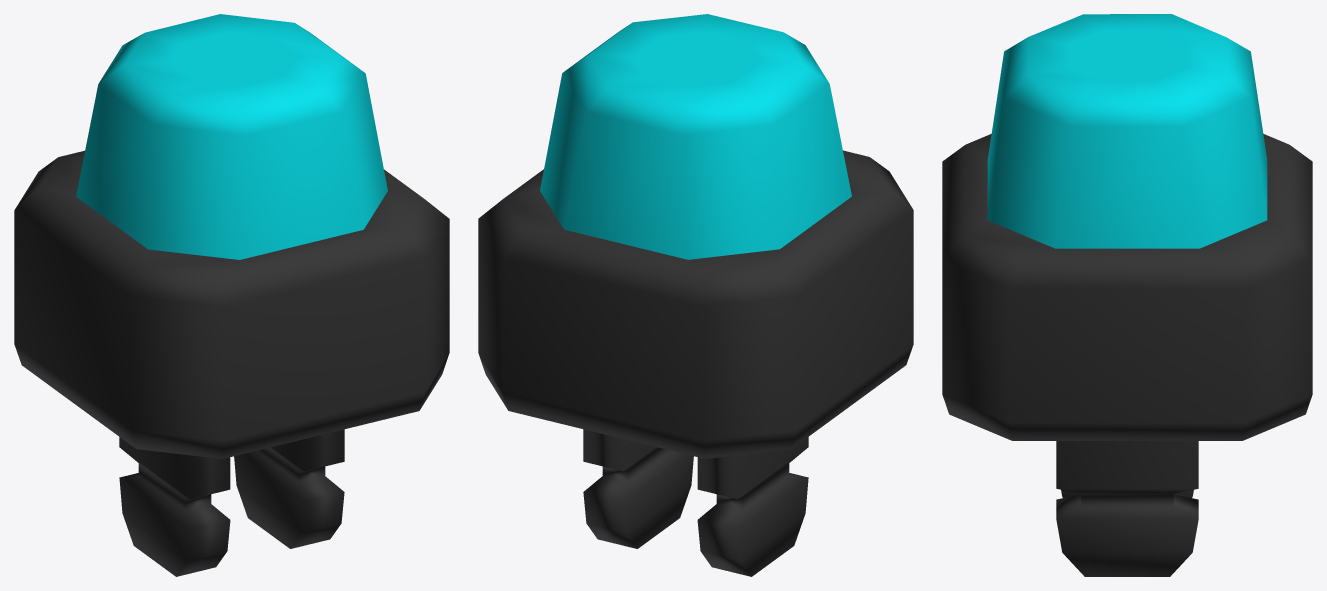
The model's file is AugmentBetter.fbx.
3 renders of one model, left to right at view 1: azimuth 30°, elevation 25°; view 2: azimuth 150°, elevation 25°; view 3: azimuth 270°, elevation 25°, orthographic.
Visible parts, largest first — view 1: Augment; view 2: Augment; view 3: Augment.
Boxes of the visible parts, bbox=[...] form: Augment: bbox=[14, 14, 449, 576]; Augment: bbox=[478, 14, 913, 576]; Augment: bbox=[942, 14, 1312, 576].
Size of the model in its own units: 9.25 by 13.44 by 9.33.
